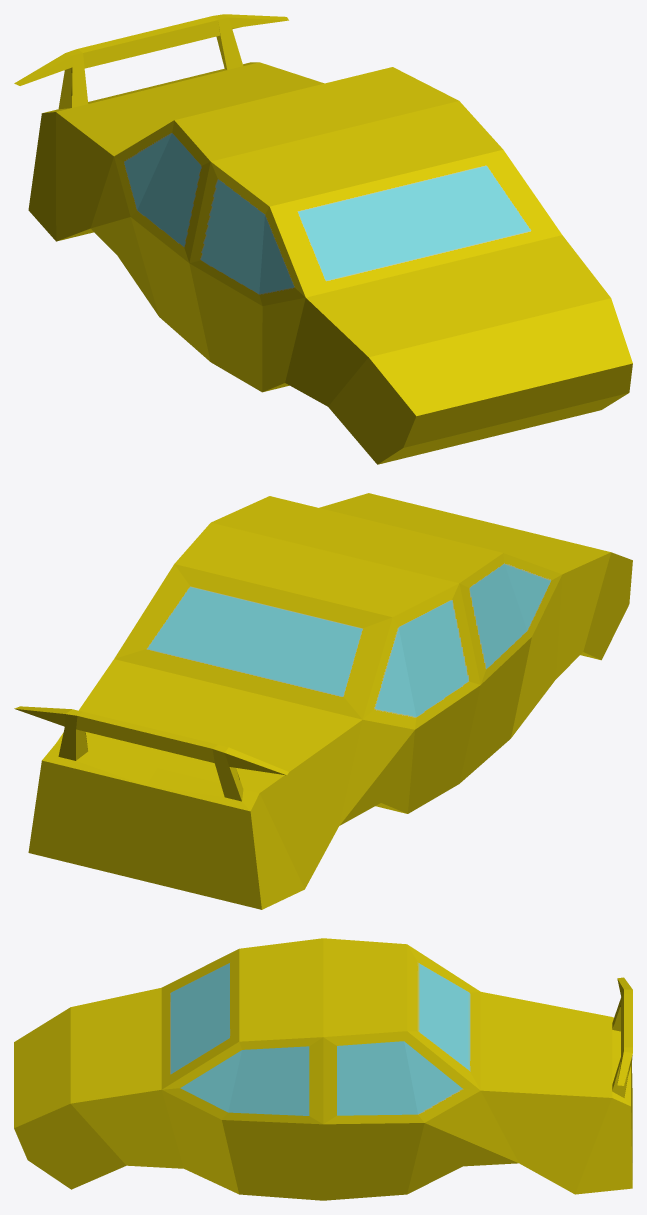
The model's file is Low_Poly_Car.fbx.
3 renders of one model, top to bottom at view 1: azimuth 30°, elevation 25°; view 2: azimuth 150°, elevation 25°; view 3: azimuth 270°, elevation 25°, orthographic. The views are drawn at different scales.
Visible parts, largest first — view 1: Cube; view 2: Cube; view 3: Cube.
Part boxes in pixels (<box>): Cube: <box>14,14,632,464</box>; Cube: <box>14,493,632,909</box>; Cube: <box>14,938,632,1200</box>.
Size of the model in its own units: 316 by 208 by 713.
Materials: 1 (1 with a texture image).
